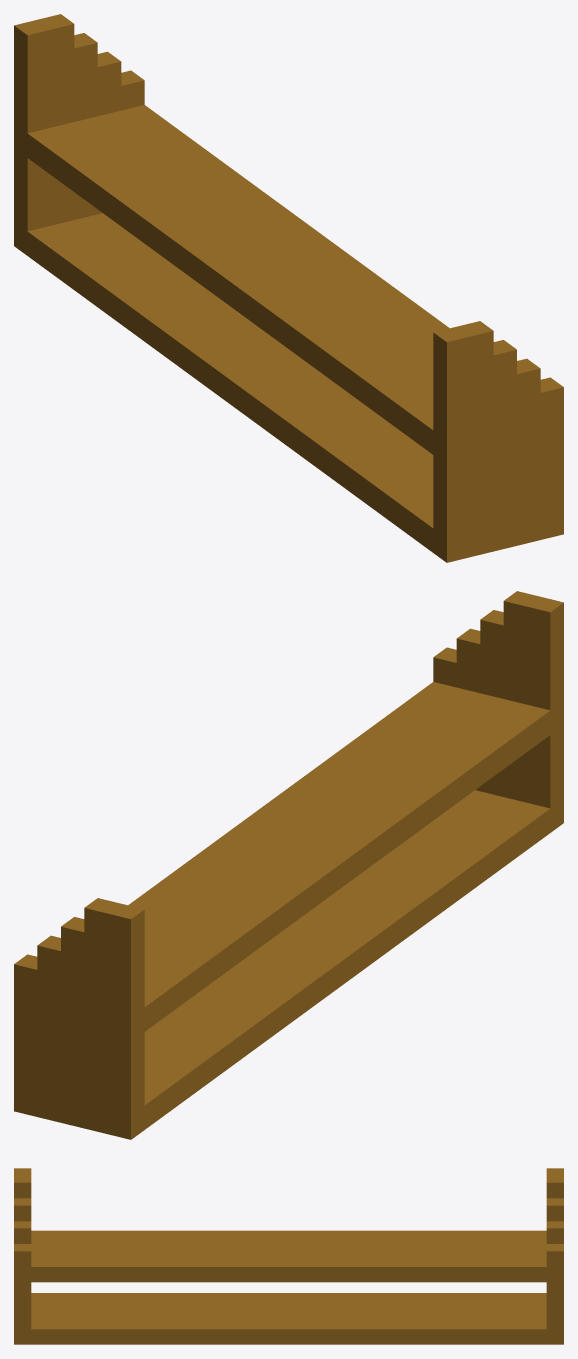
The model's file is kitchen_shelf.obj.
3 renders of one model, top to bottom at view 1: azimuth 30°, elevation 25°; view 2: azimuth 150°, elevation 25°; view 3: azimuth 270°, elevation 25°, orthographic. The views are drawn at different scales.
Size of the model in its own units: 0.5 by 0.9 by 3.2.
Materials: 1 (1 with a texture image).
